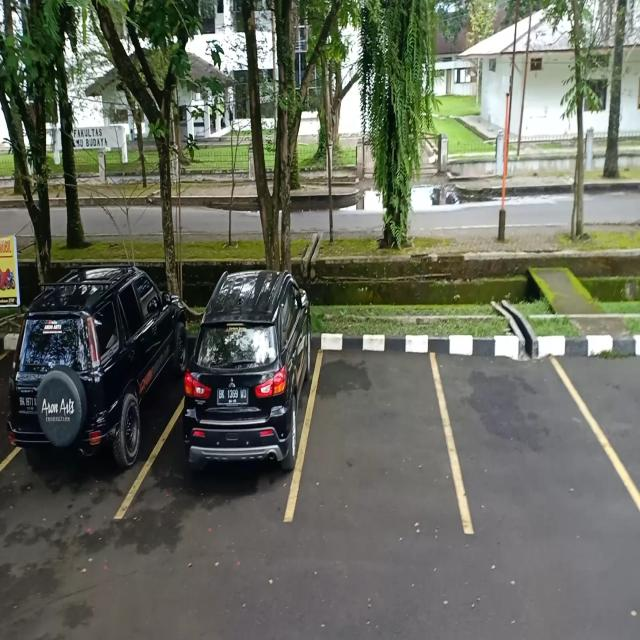empty: (450, 325, 604, 542), (306, 327, 453, 521)
occupied: (0, 307, 163, 511), (162, 310, 306, 519)
